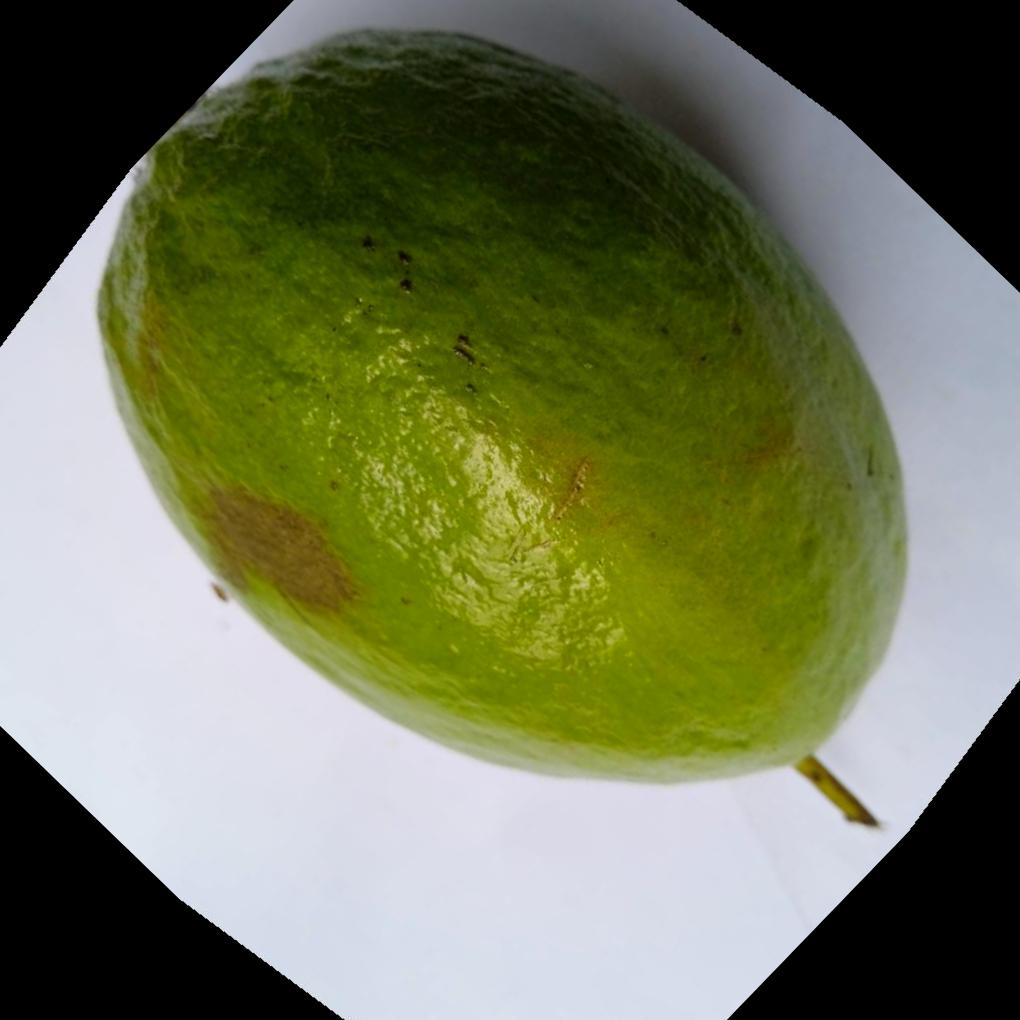FreshGuava: (92, 26, 909, 790)
